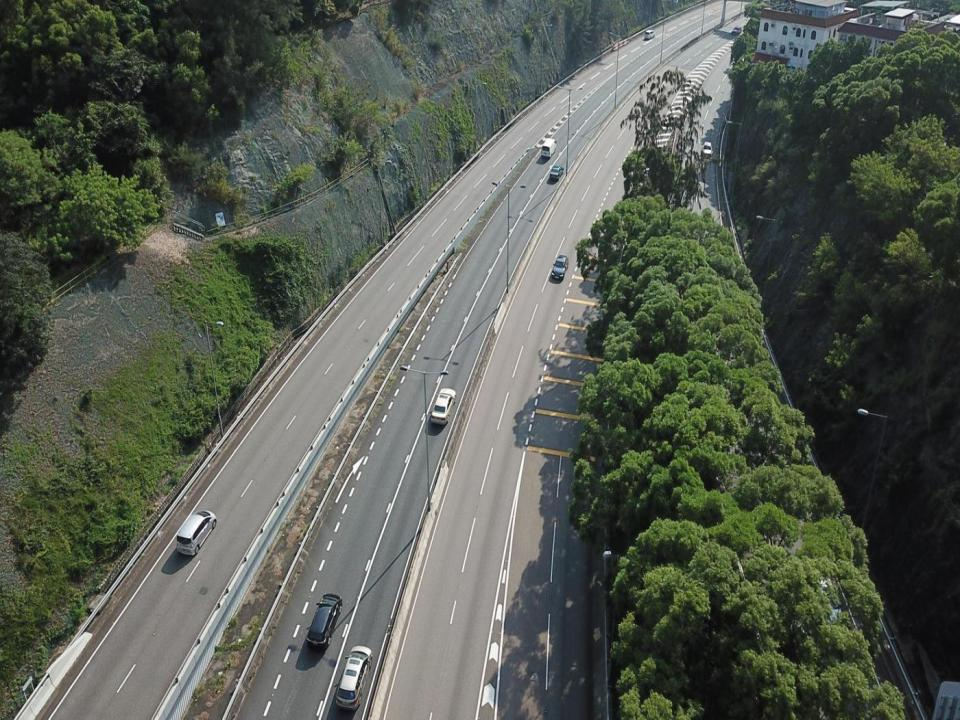car: (336, 645, 373, 711), (306, 592, 343, 650), (176, 509, 218, 556), (429, 387, 457, 426), (550, 254, 568, 281), (548, 164, 564, 181), (701, 141, 714, 161), (730, 24, 743, 36), (643, 29, 655, 40)
van: (540, 137, 557, 159)
